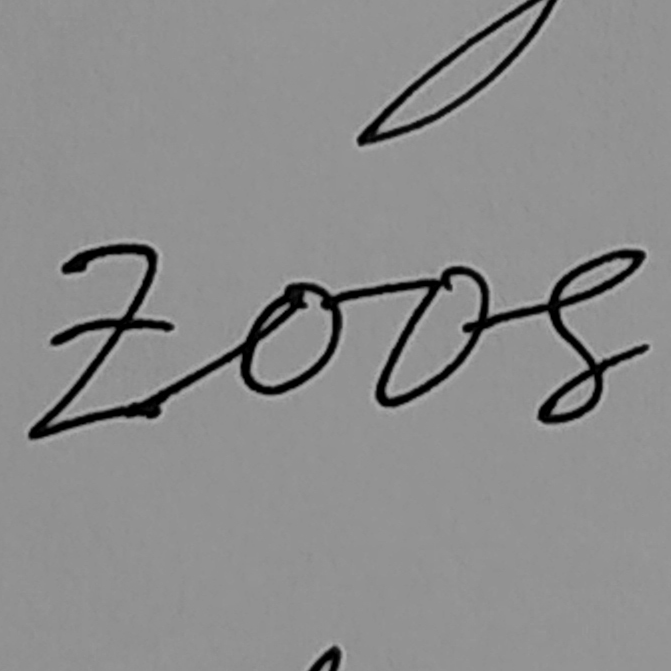o: (367, 262, 493, 414), (235, 274, 346, 402)
s: (532, 245, 653, 427)
z: (21, 236, 180, 444)
